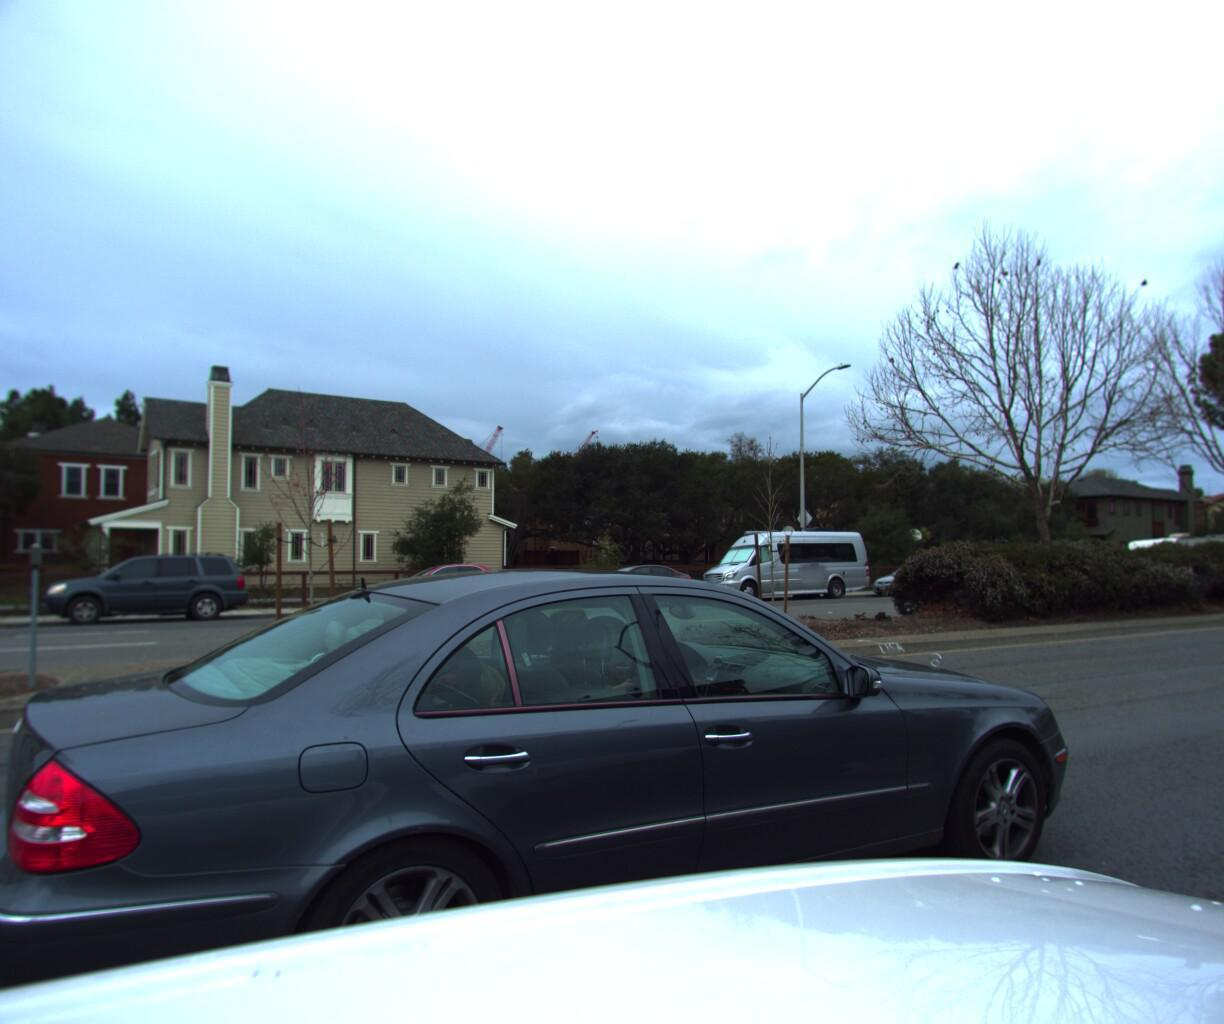car: (29, 547, 262, 630), (684, 517, 879, 600), (348, 558, 533, 615), (562, 558, 710, 606), (863, 555, 974, 594)
other_vehicle: (1108, 522, 1224, 588), (1196, 523, 1224, 581)
